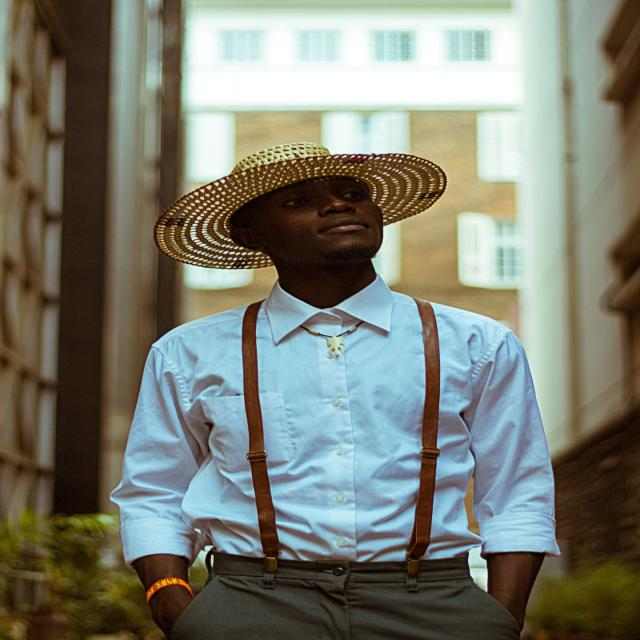adult: (116, 163, 554, 640)
